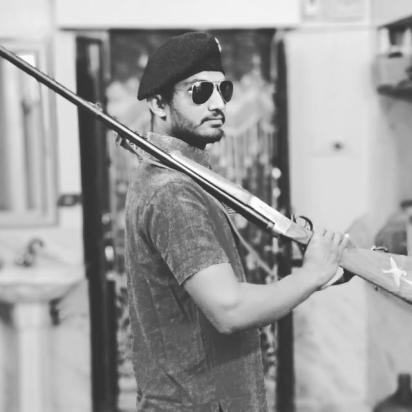Gun: (0, 45, 412, 305)
